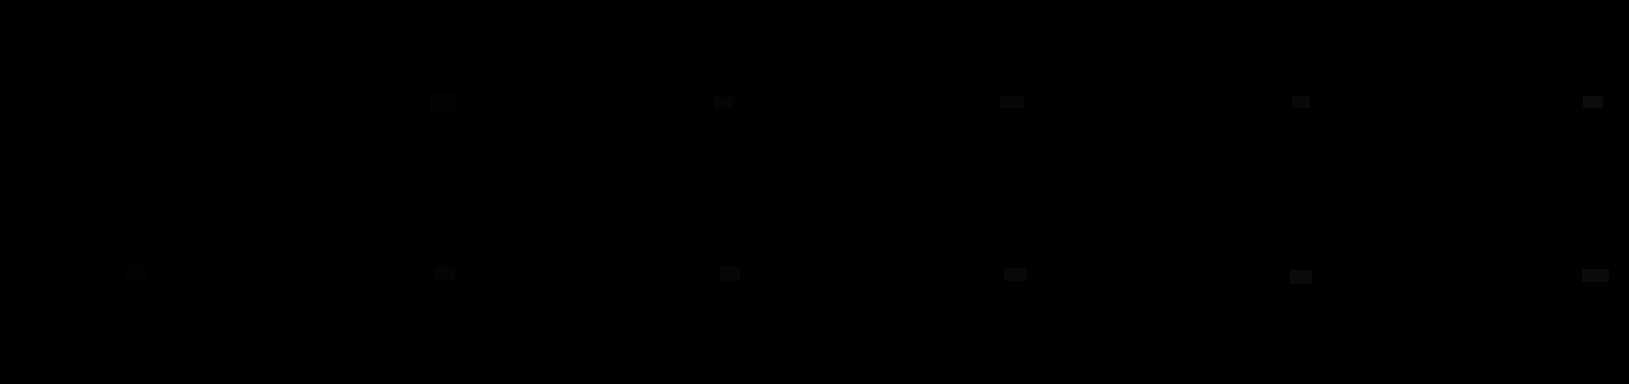light: (430, 94, 455, 112), (1582, 269, 1609, 282), (125, 266, 146, 282), (123, 94, 144, 110), (1004, 268, 1027, 281), (1290, 270, 1312, 284), (435, 266, 455, 281), (720, 266, 740, 281), (1000, 95, 1024, 108), (1583, 95, 1603, 108), (714, 97, 733, 108), (1292, 95, 1310, 108)
